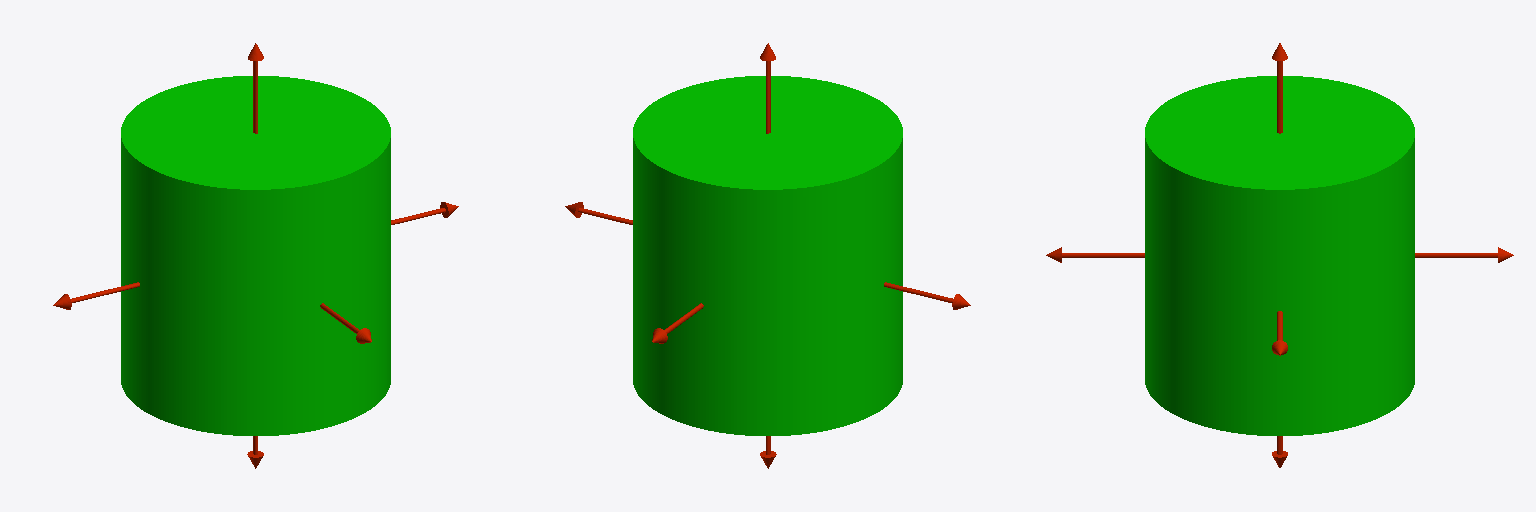
Rendered from cilindroda.obj.
3 renders of one model, left to right at view 1: azimuth 30°, elevation 25°; view 2: azimuth 150°, elevation 25°; view 3: azimuth 270°, elevation 25°, orthographic.
Parts seen in each view (by area): view 1: Cone.006_Cone.011; view 2: Cone.006_Cone.011; view 3: Cone.006_Cone.011.
Boxes of the visible parts, x1,y1,x2,y2 form: Cone.006_Cone.011: [53, 43, 458, 468]; Cone.006_Cone.011: [565, 43, 970, 468]; Cone.006_Cone.011: [1046, 43, 1513, 467].
Size of the model in its own units: 10.93 by 10.98 by 10.94.